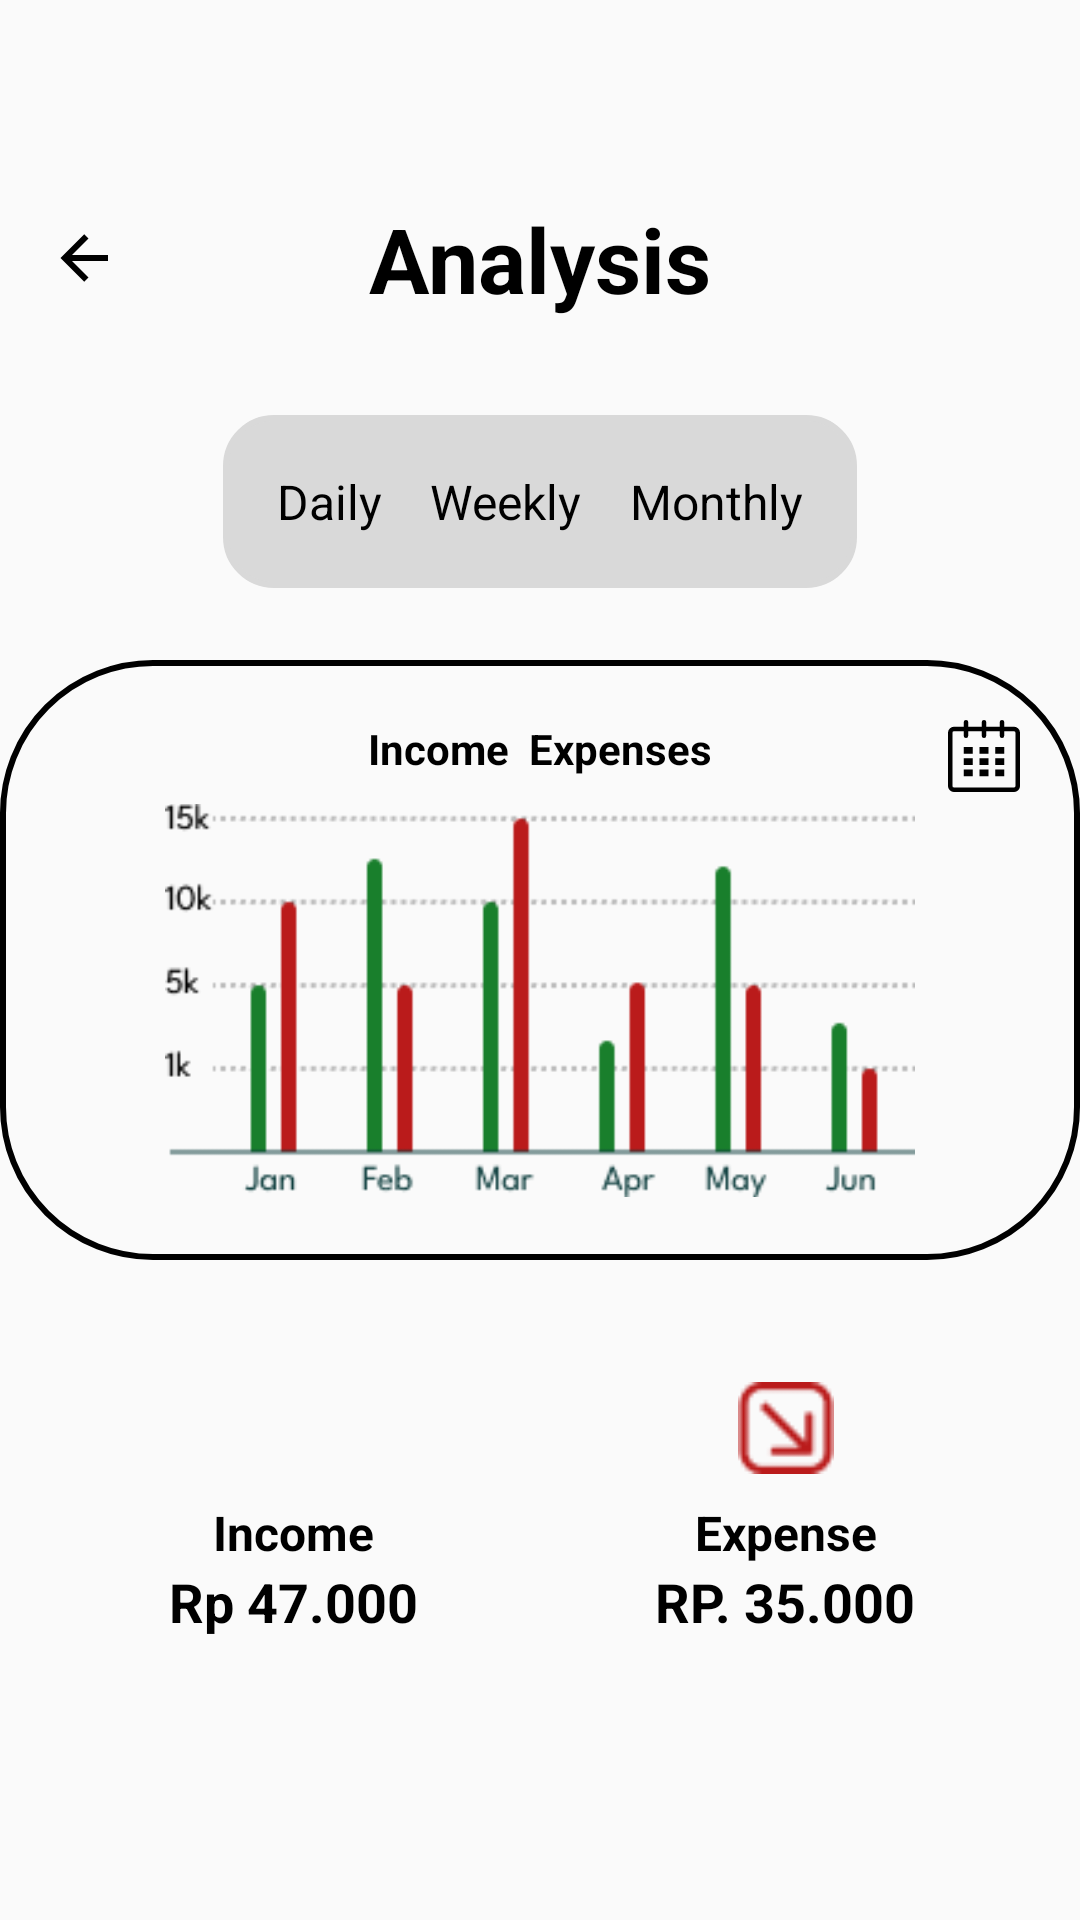

Named icons in this screenshot (1080w x 1920h) and their centers, point (x, y):
Back Arrow: point (84, 258)
Calendar Icon: point (984, 756)
